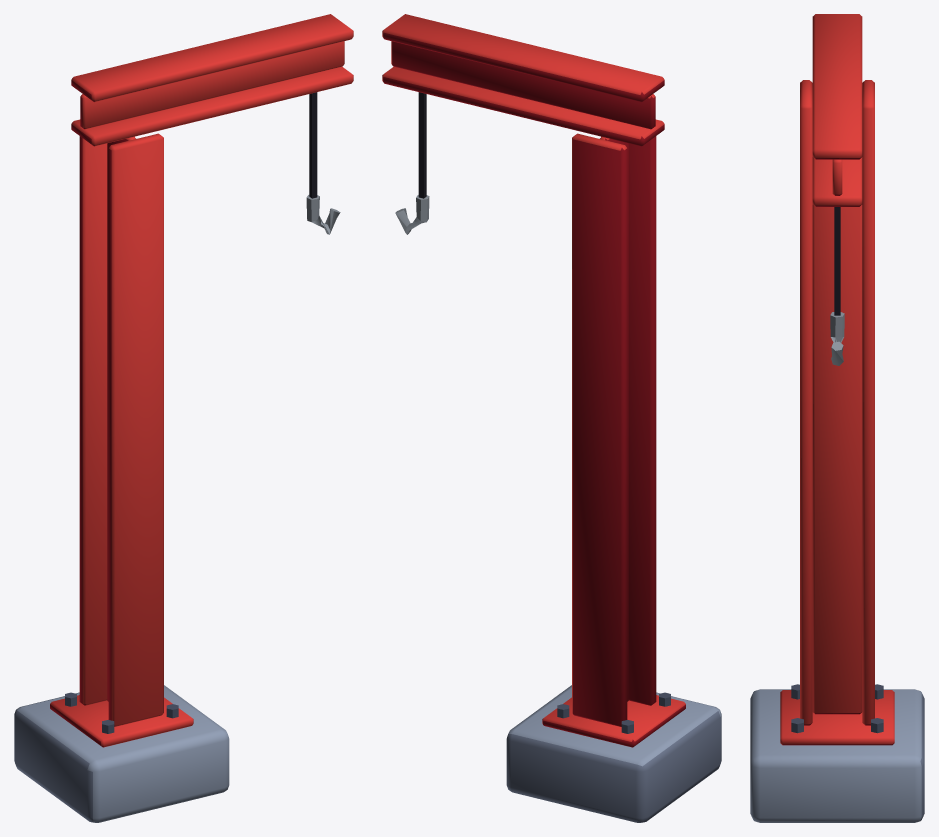
Rendered from GirderColumn.fbx.
The picture shows the model from 3 angles, left to right: view 1: azimuth 30°, elevation 25°; view 2: azimuth 150°, elevation 25°; view 3: azimuth 270°, elevation 25°; orthographic projection. The views are drawn at different scales.
Parts seen in each view (by area): view 1: GirderColumn; view 2: GirderColumn; view 3: GirderColumn.
Part boxes in pixels (x1=…): GirderColumn: x1=14, y1=14, x2=353, y2=822; GirderColumn: x1=382, y1=14, x2=721, y2=822; GirderColumn: x1=750, y1=14, x2=924, y2=822.
Bounding box in the file's own units: 1.45 × 3.35 × 0.7.
Materials: 1 (1 with a texture image).
